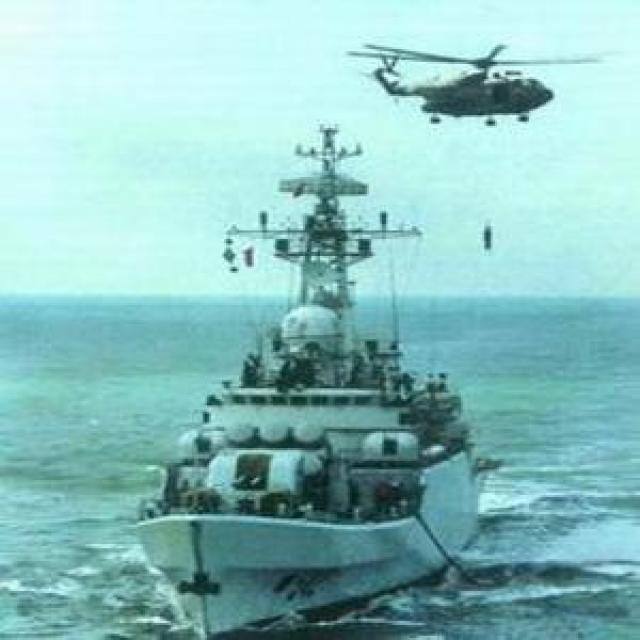navalvessels: (138, 122, 489, 623)
